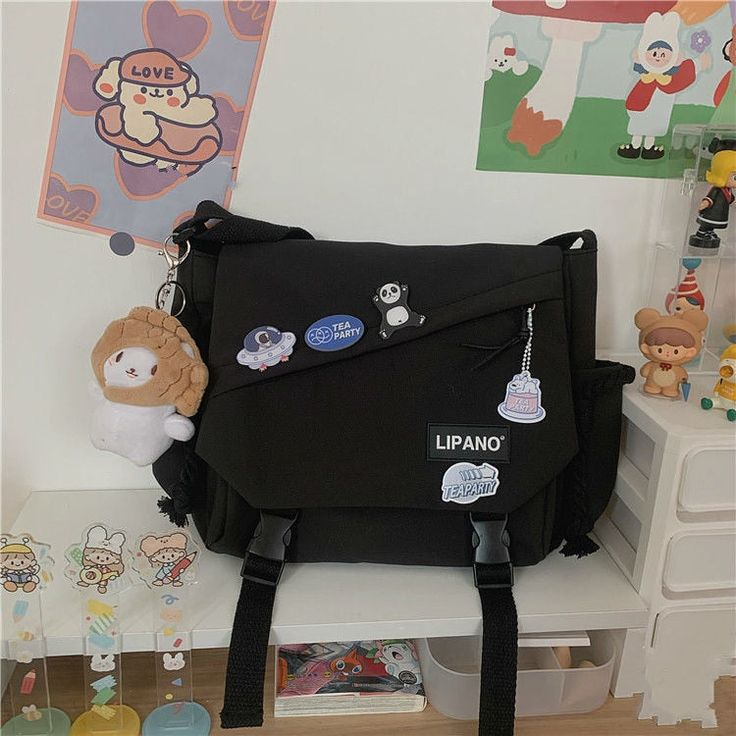nylon: (162, 202, 636, 570)
